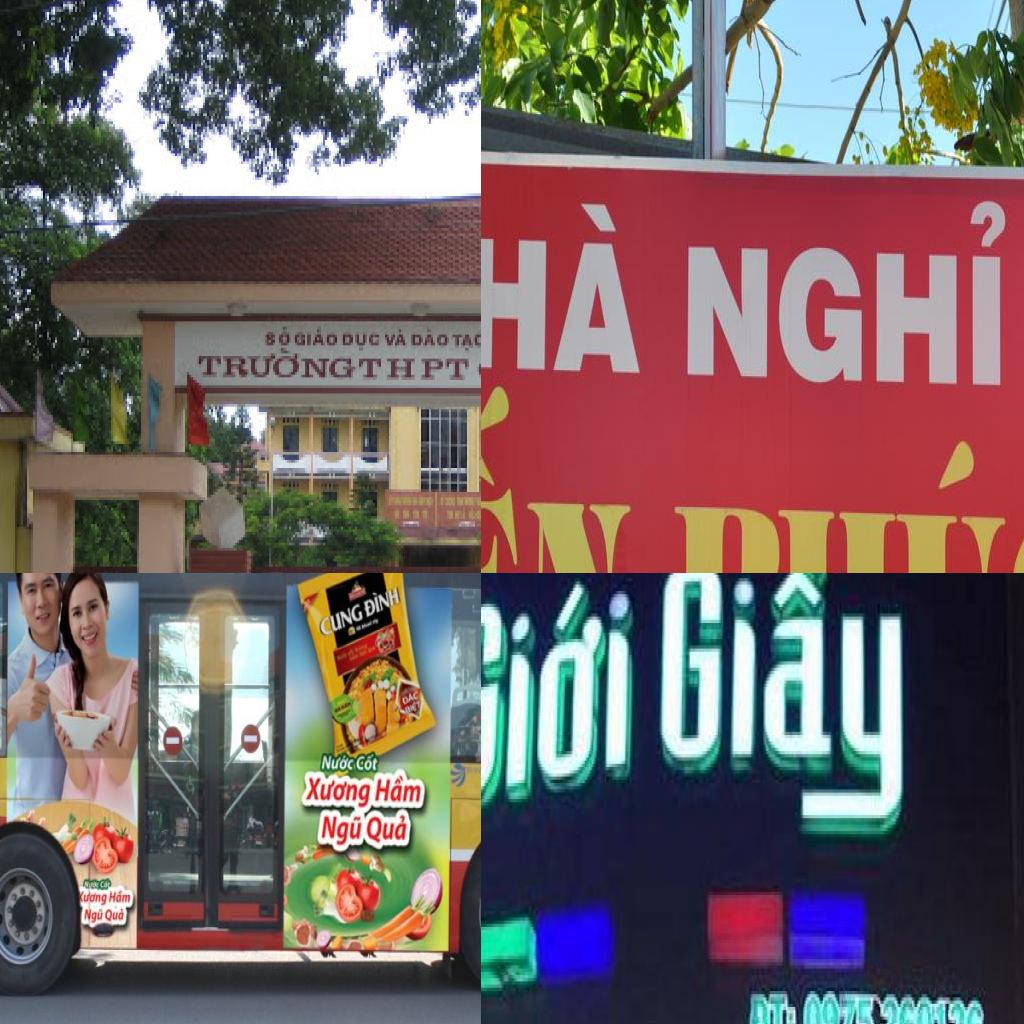text: (679, 188, 1006, 398), (654, 573, 905, 827), (669, 415, 1024, 573), (481, 573, 634, 811), (481, 370, 637, 573), (481, 191, 645, 379), (195, 346, 357, 386), (357, 354, 473, 386), (299, 772, 371, 808), (362, 808, 412, 853), (316, 808, 366, 851), (747, 984, 799, 1024), (371, 774, 425, 810), (316, 602, 365, 639), (361, 582, 403, 620), (293, 324, 339, 351), (339, 330, 383, 354), (411, 326, 451, 350), (319, 750, 356, 774), (451, 329, 481, 353), (265, 324, 293, 348), (77, 887, 108, 908), (385, 326, 409, 350), (108, 888, 133, 910), (104, 908, 128, 930), (356, 752, 378, 776), (81, 905, 106, 926), (400, 698, 422, 720), (400, 688, 421, 710), (207, 573, 235, 578)
